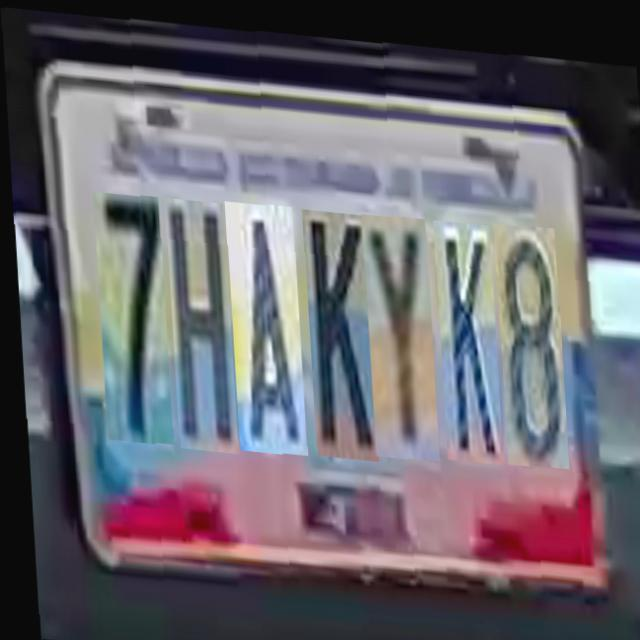7: (90, 185, 167, 438)
8: (491, 212, 563, 457)
A: (222, 192, 301, 447)
H: (162, 190, 232, 446)
K: (300, 200, 372, 452), (430, 210, 498, 453)
Y: (359, 204, 434, 451)
